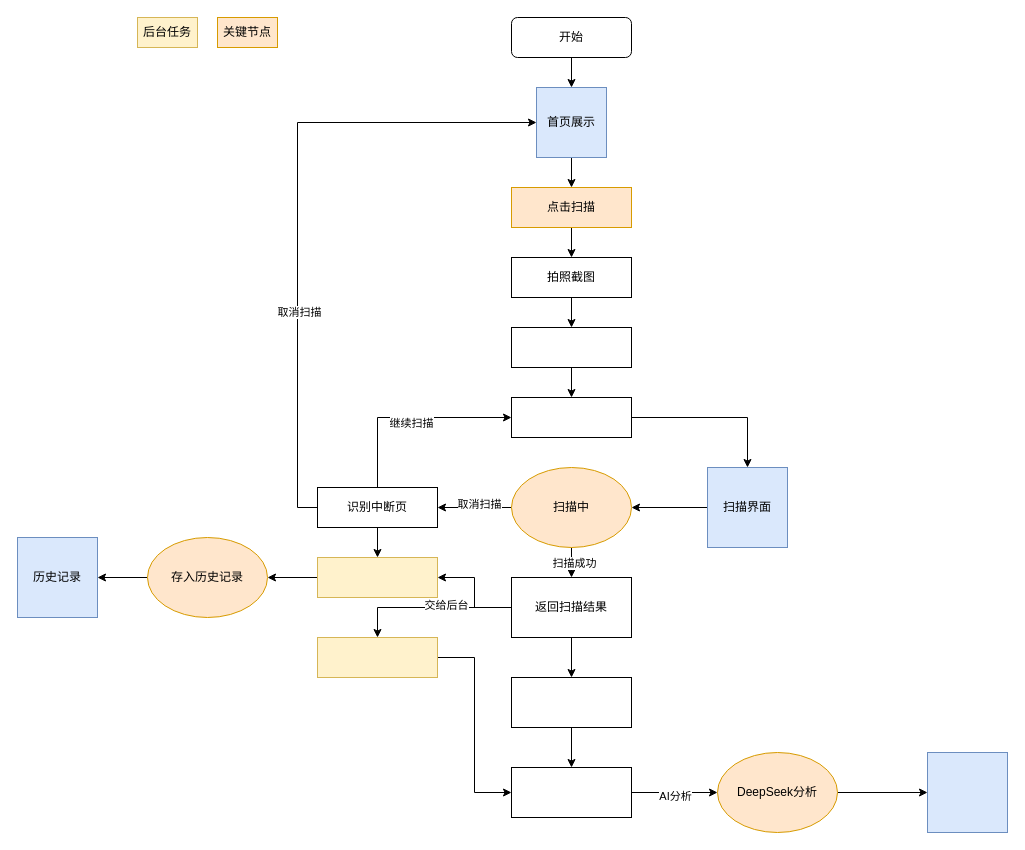
Some shapes in this 1025 by 850 pixel diagram are drawn without their labels. Here are the shapes that lost their labels. From the top down, the box of each, then its label:
(510, 326, 632, 368): 图片缓存
(510, 396, 632, 438): ocr识别
(316, 556, 438, 598): 图片写入本地
(316, 636, 438, 678): 生成图表
(510, 676, 632, 728): 数据文案展示
(510, 766, 632, 818): 图表展示
(926, 752, 1008, 832): 建议界面展示
